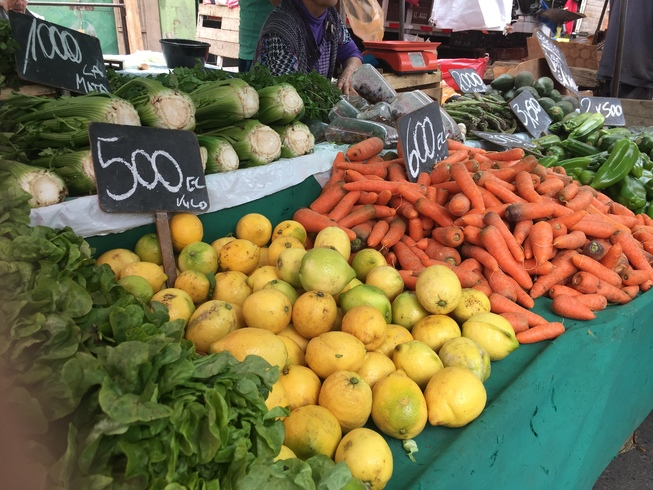precio: (84, 118, 225, 226), (5, 7, 118, 102), (394, 105, 457, 184), (535, 25, 587, 96), (505, 86, 555, 147), (576, 91, 628, 130), (445, 64, 496, 100)
